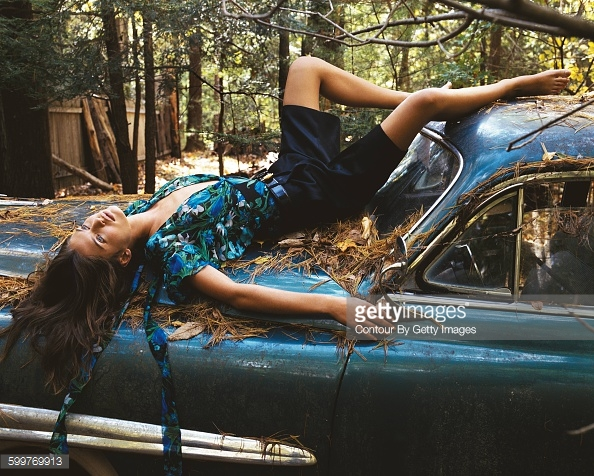deitado: (79, 19, 486, 363)
